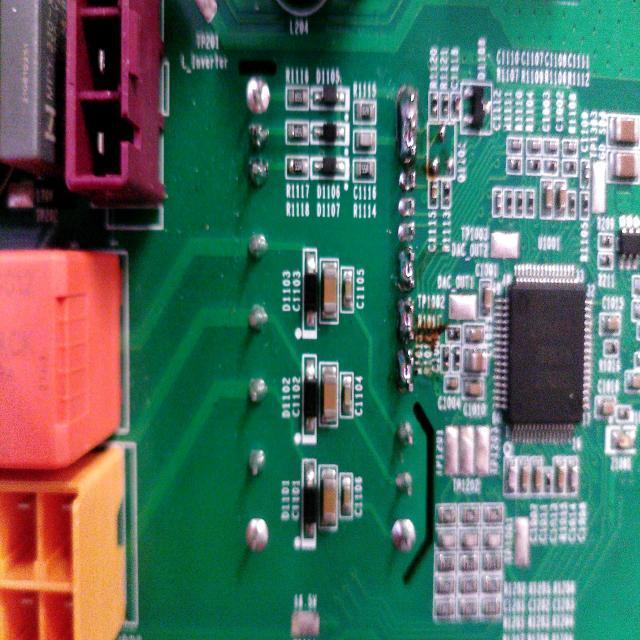Soldering shorted: (396, 84, 418, 171), (392, 295, 420, 348), (394, 346, 417, 404), (395, 245, 418, 298)
